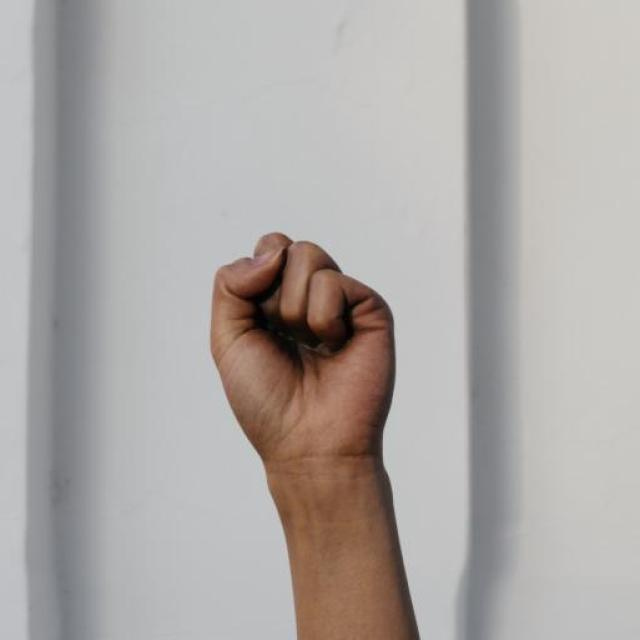S: (206, 223, 400, 472)
